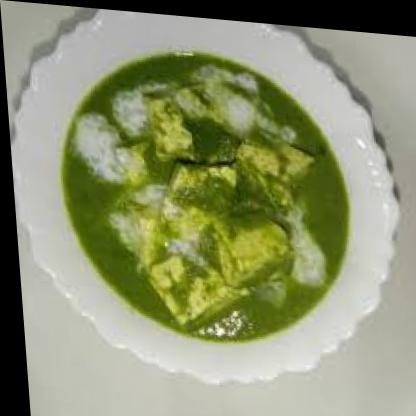palak_paneer: (51, 38, 356, 350)
